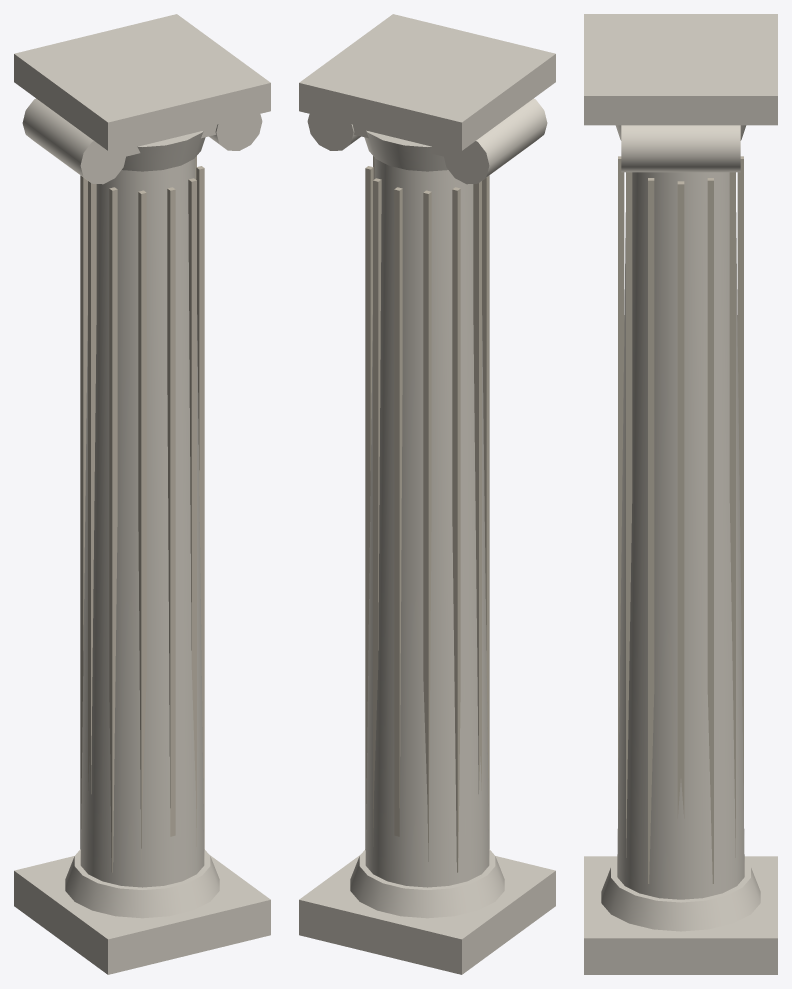
Rendered from im_column_ionic.glb.
3 renders of one model, left to right at view 1: azimuth 30°, elevation 25°; view 2: azimuth 150°, elevation 25°; view 3: azimuth 270°, elevation 25°, orthographic. The views are drawn at different scales.
Visible parts, largest first — view 1: im_column_ionic; view 2: im_column_ionic; view 3: im_column_ionic.
Part boxes in pixels (x1,y1,x2,y2): im_column_ionic: [14, 14, 270, 974]; im_column_ionic: [299, 14, 555, 974]; im_column_ionic: [584, 14, 777, 974].
Size of the model in its own units: 1.34 by 6 by 1.2.
